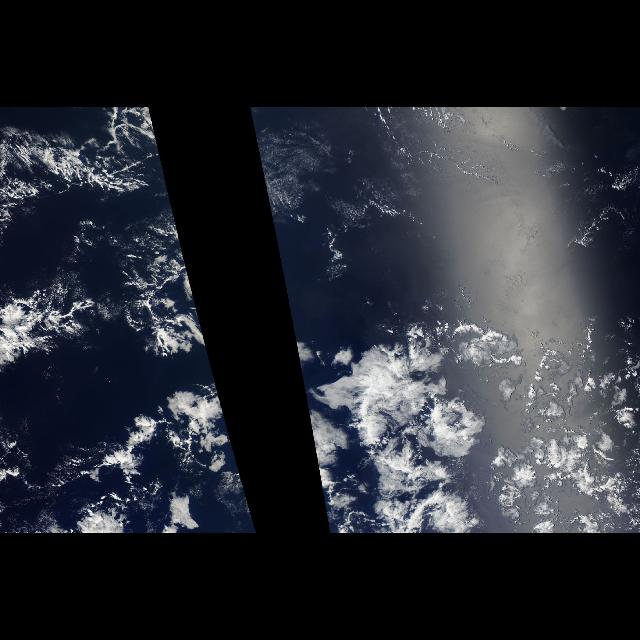Flower: (285, 286, 637, 528), (112, 286, 258, 528)
Sugar: (250, 108, 612, 294)
